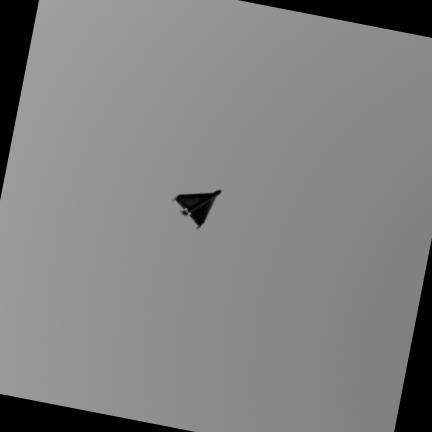Shahed: (172, 191, 220, 229)
